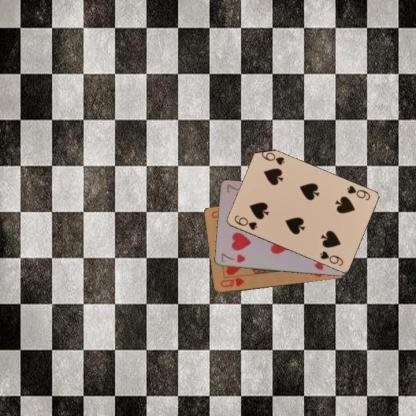6s: (344, 183, 372, 202), (231, 213, 258, 231)
7h: (219, 251, 246, 264)
Qh: (218, 275, 245, 288)
